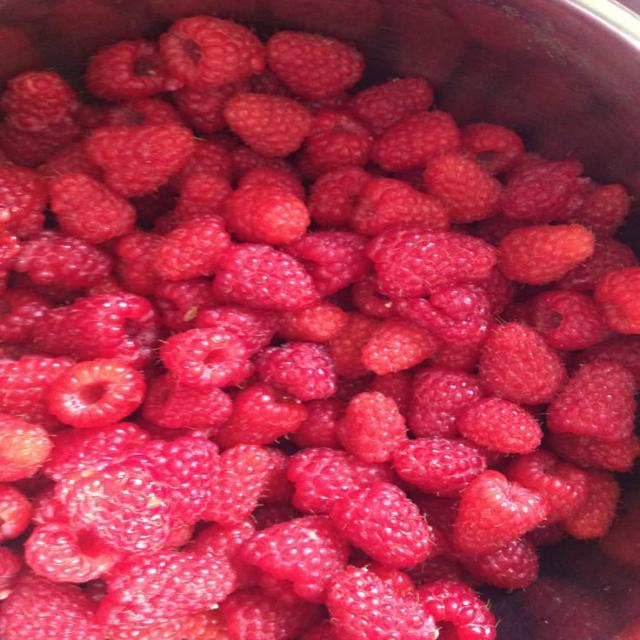raspberry: (55, 462, 175, 551), (97, 551, 235, 626), (124, 435, 219, 541), (240, 516, 348, 603), (34, 293, 159, 368), (367, 226, 497, 297), (330, 483, 431, 568), (327, 566, 438, 639), (86, 123, 195, 197), (454, 470, 548, 553), (159, 16, 265, 88), (547, 361, 636, 441), (479, 323, 566, 404), (0, 572, 103, 639), (214, 244, 318, 310), (287, 449, 393, 513), (47, 359, 145, 427), (267, 31, 364, 99), (43, 423, 150, 481), (203, 587, 322, 639), (505, 450, 587, 524), (49, 173, 135, 243), (215, 383, 306, 448), (394, 285, 493, 344), (85, 40, 180, 101), (499, 224, 594, 284), (349, 178, 449, 235), (393, 436, 486, 497), (160, 328, 253, 389), (523, 577, 614, 639), (224, 93, 312, 157), (25, 523, 120, 582), (201, 445, 271, 525), (13, 232, 113, 287), (424, 152, 501, 223), (286, 231, 370, 296), (0, 355, 73, 429), (408, 367, 485, 437), (371, 111, 459, 171), (150, 215, 231, 280), (501, 160, 584, 223), (298, 109, 372, 178), (224, 185, 310, 244), (529, 290, 610, 350), (142, 374, 232, 428), (457, 397, 542, 454), (338, 392, 406, 463), (349, 78, 433, 135), (256, 342, 336, 401), (0, 72, 76, 133), (418, 580, 496, 639), (186, 519, 255, 585), (361, 317, 438, 375), (555, 239, 638, 291), (196, 305, 278, 354), (172, 81, 247, 133), (307, 167, 372, 227), (563, 470, 619, 539), (463, 539, 539, 589), (0, 119, 79, 167), (0, 413, 53, 482), (547, 433, 639, 472), (573, 335, 639, 386), (461, 123, 524, 174), (155, 278, 215, 331), (171, 173, 233, 224), (112, 231, 161, 295), (572, 184, 630, 238), (0, 166, 47, 232), (171, 139, 233, 189), (411, 492, 459, 556), (594, 267, 639, 334), (0, 289, 53, 345), (600, 492, 639, 567), (278, 301, 347, 342), (288, 398, 344, 448), (230, 145, 300, 179), (238, 168, 306, 202), (476, 268, 519, 316), (105, 98, 181, 125), (368, 372, 413, 417), (352, 271, 394, 319), (407, 556, 470, 587), (0, 484, 33, 543), (261, 448, 294, 506), (473, 214, 527, 245), (365, 562, 415, 594), (251, 503, 303, 530), (248, 68, 292, 97), (0, 547, 23, 600), (520, 524, 568, 548), (74, 103, 108, 131), (0, 231, 21, 274), (301, 620, 336, 639)
